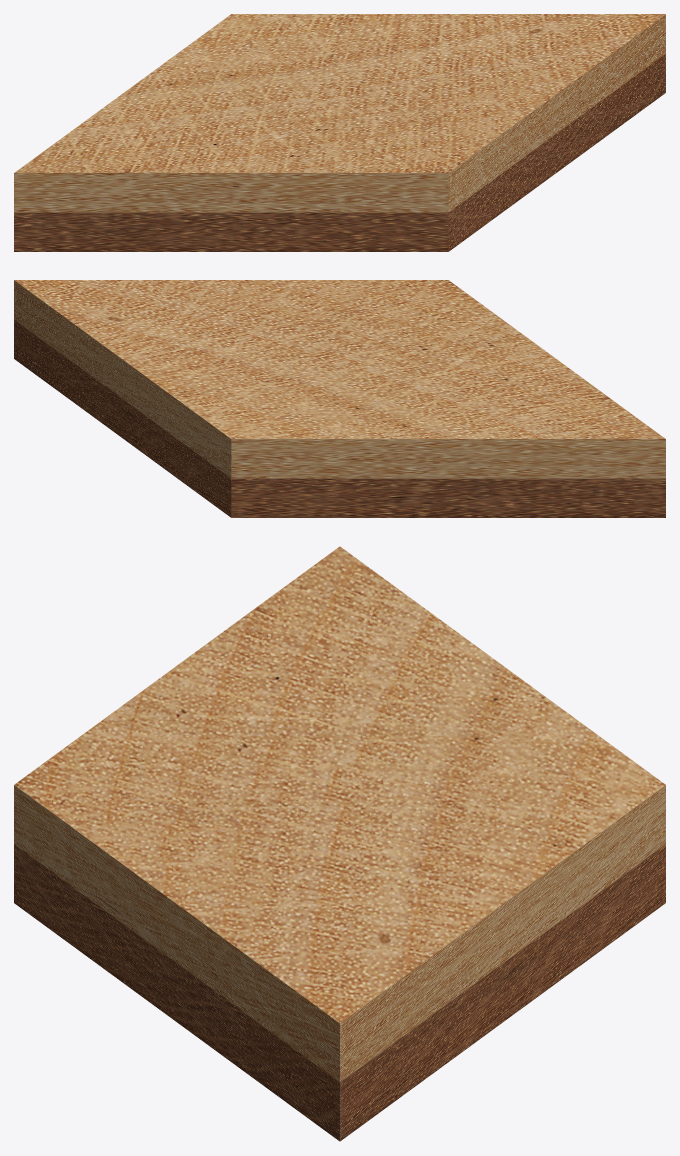
File: RhombusLowPoly.FBX
3 renders of one model, top to bottom at view 1: azimuth 30°, elevation 25°; view 2: azimuth 150°, elevation 25°; view 3: azimuth 270°, elevation 25°, orthographic. The views are drawn at different scales.
Parts seen in each view (by area): view 1: RhombusLowPoly; view 2: RhombusLowPoly; view 3: RhombusLowPoly.
Part boxes in pixels (bbox=[...]): RhombusLowPoly: bbox=[14, 14, 665, 251]; RhombusLowPoly: bbox=[14, 280, 665, 517]; RhombusLowPoly: bbox=[14, 546, 665, 1141].
Size of the model in its own units: 17.32 by 2 by 10.
